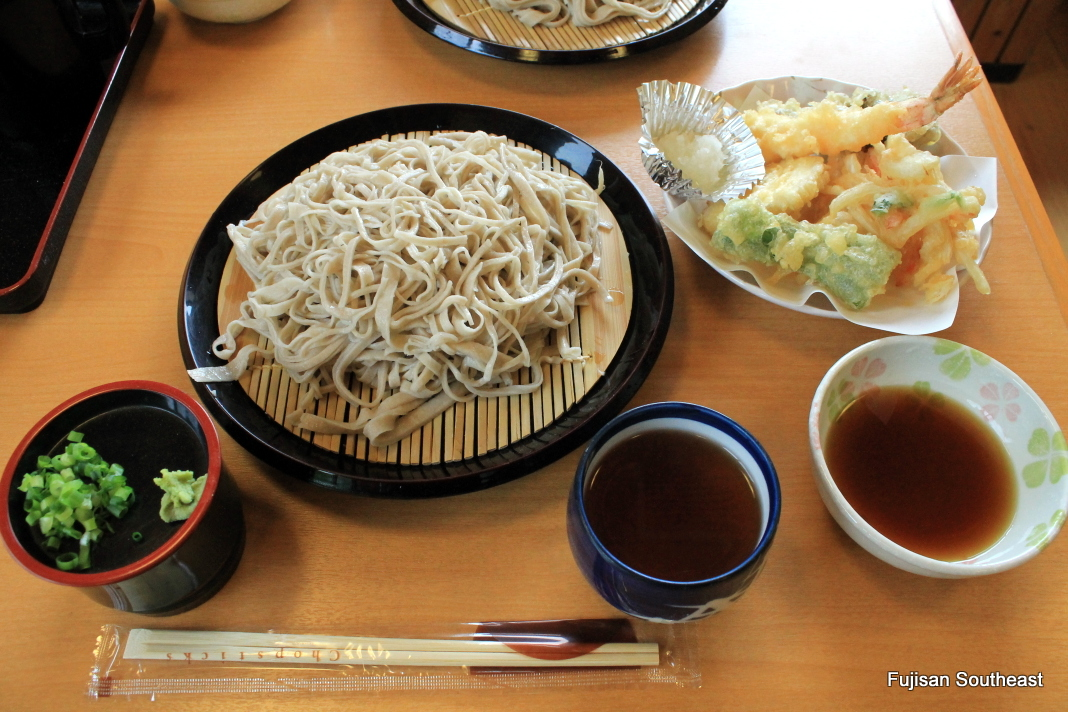Soba: (235, 133, 638, 463)
